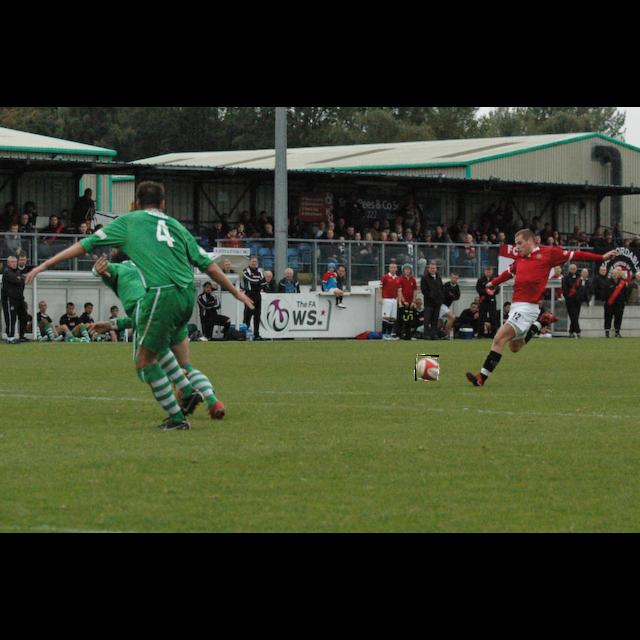Football: (415, 355, 439, 381)
